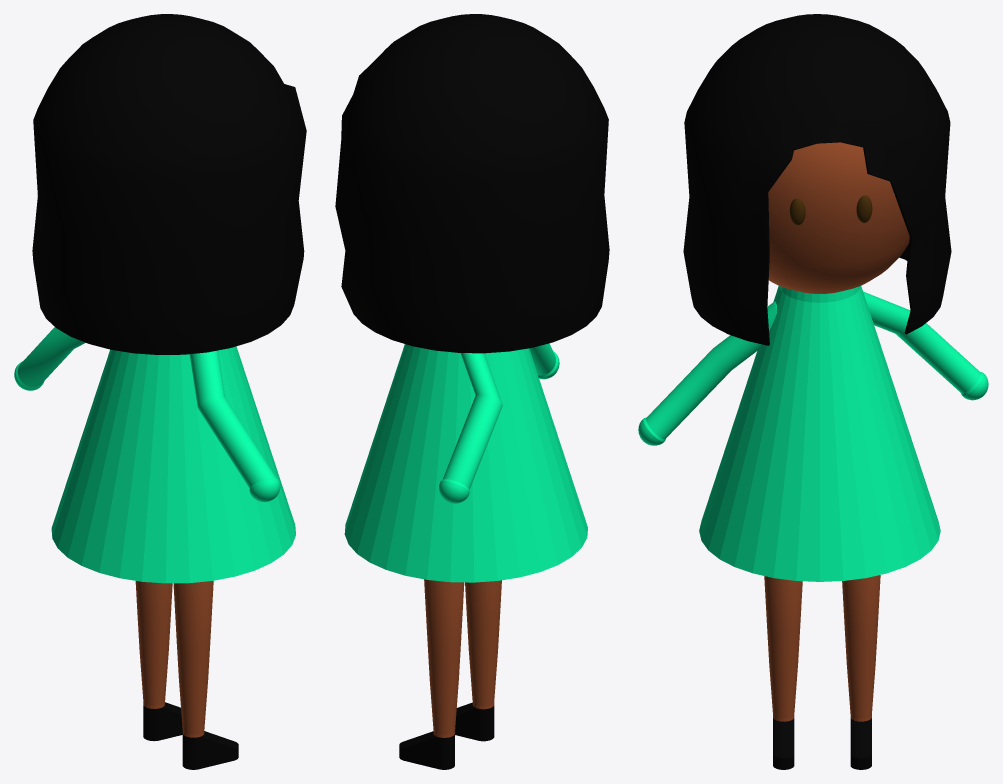
The model's file is Girl1_Standard.fbx.
3 views of the same model, side by side, from view 1: azimuth 30°, elevation 25°; view 2: azimuth 150°, elevation 25°; view 3: azimuth 270°, elevation 25° (orthographic).
Parts seen in each view (by area): view 1: Sphere005, Sphere001, Sphere004 (×2), Cylinder004, Sphere003; view 2: Sphere005, Sphere001, Sphere004 (×2), Cylinder004, Sphere003; view 3: Sphere001, Sphere005, Sphere004 (×2), Cylinder004, Sphere003.
Part boxes in pixels (x1,y1,x2,y2): Sphere005: (32,14,306,354); Sphere001: (51,346,295,583); Sphere004 (×2): (135,350,280,741); Cylinder004: (173,581,238,769); Sphere003: (14,327,85,390); Sphere005: (335,14,609,353); Sphere001: (344,344,587,582); Sphere004 (×2): (399,343,559,769); Cylinder004: (455,580,501,741); Sphere003: (439,353,502,503); Sphere001: (699,142,940,581); Sphere005: (683,14,951,345); Sphere004 (×2): (638,301,880,769); Cylinder004: (764,576,802,769); Sphere003: (863,291,988,400).
Size of the model in its own units: 107 by 321 by 142.
1 material, 1 textured.
